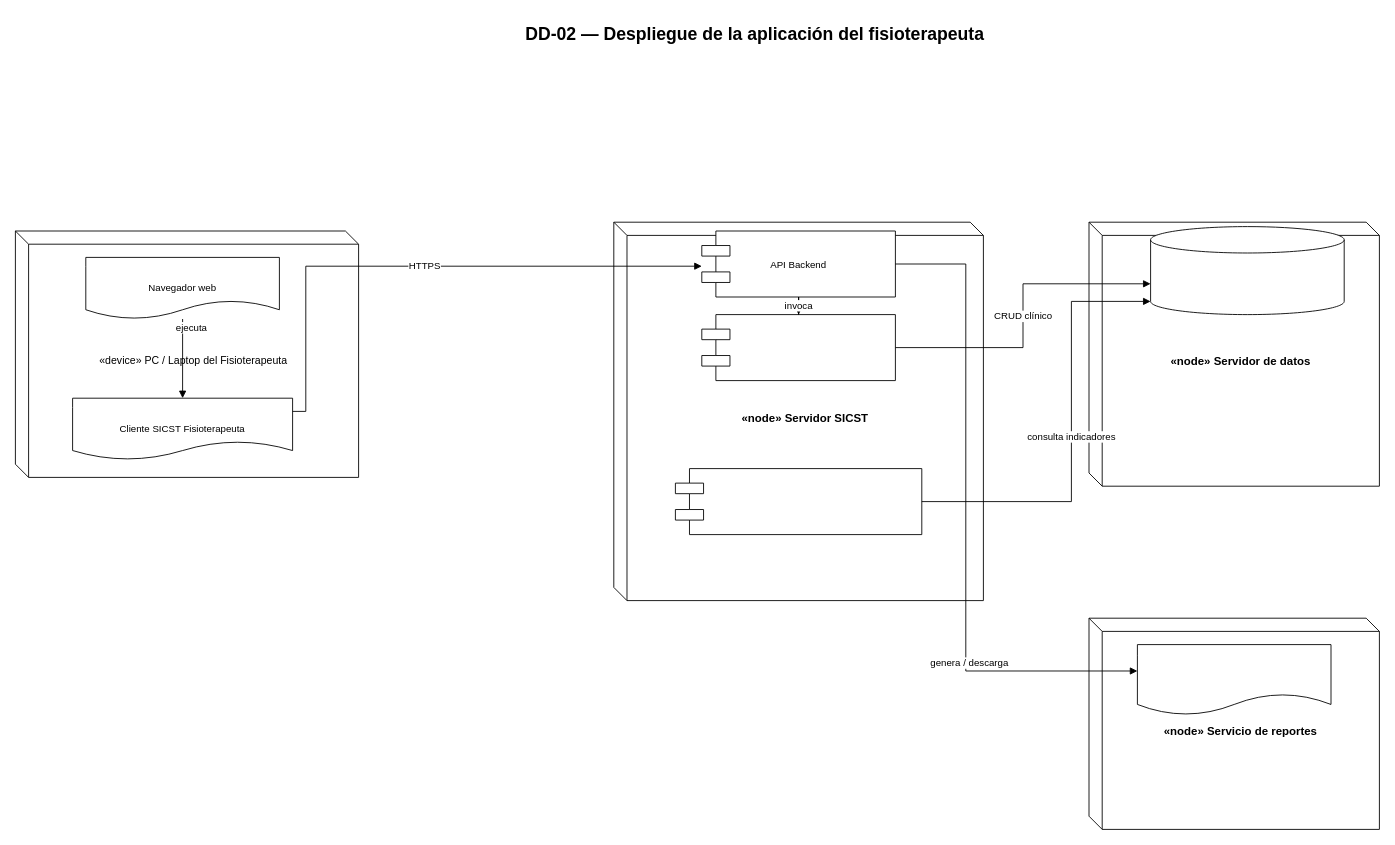
The diagram is 1395 pixels wide and 845 high, and some of its shapes have lost their labels. The shapes that lost their labels are listed below. From the top down, each one's centre as x and y in pixels, then its label:
At [1247,270]: "BD SICST".
At [798,347]: "Servicios clínicos".
At [798,501]: "Alertas / recomendaciones".
At [1234,679]: "Reportes / exportaciones".
